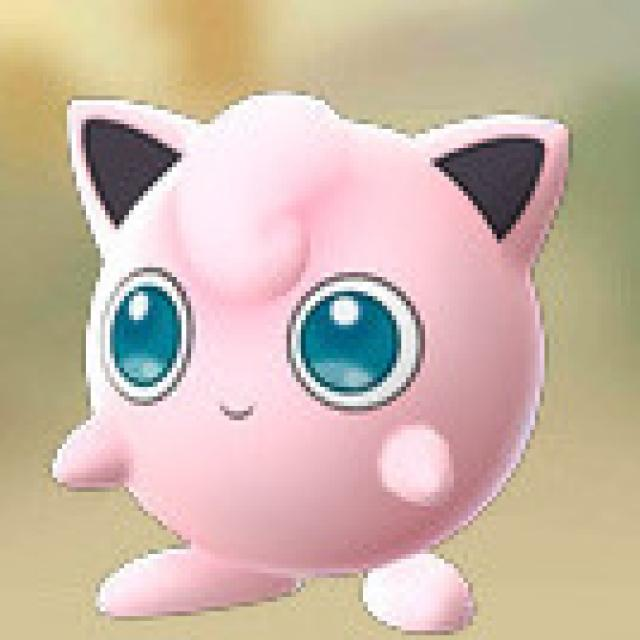Jigglypuff: (54, 80, 592, 635)
